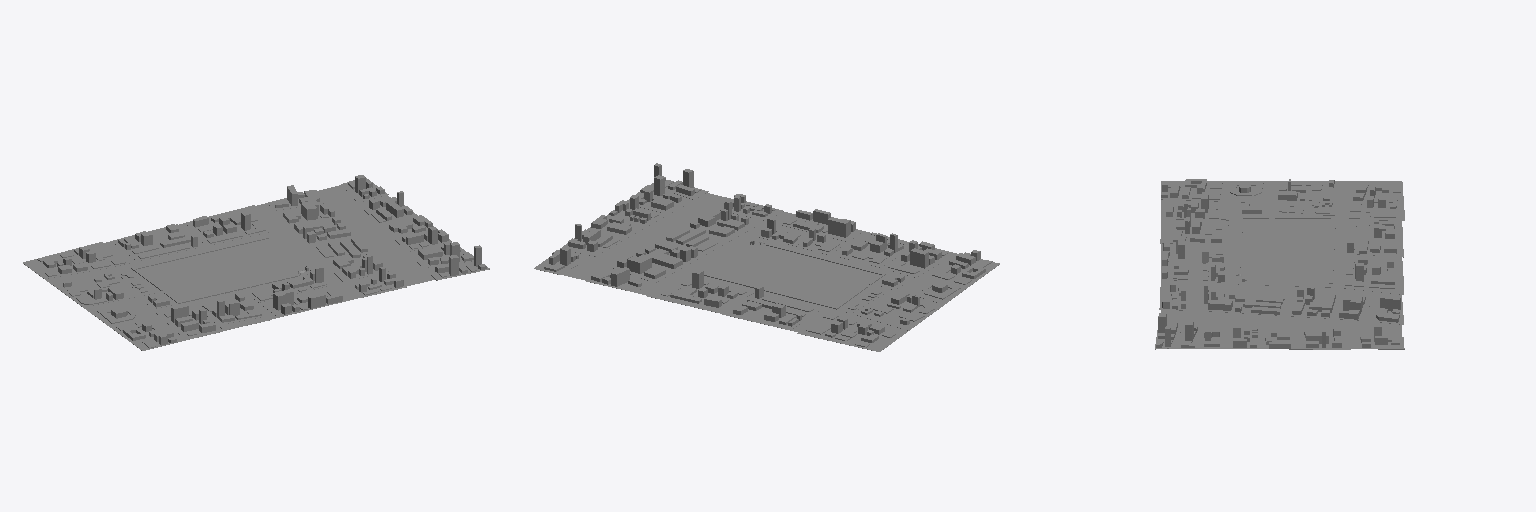
The model's file is layout.obj.
The picture shows the model from 3 angles: view 1: azimuth 30°, elevation 25°; view 2: azimuth 150°, elevation 25°; view 3: azimuth 270°, elevation 25°; orthographic projection.
Parts seen in each view (by area): view 1: layout1; view 2: layout1; view 3: layout1.
Boxes of the visible parts, box(x1,y1,x2,y2) form: layout1: box(23, 175, 489, 350); layout1: box(534, 163, 999, 351); layout1: box(1155, 179, 1404, 349).
Size of the model in its own units: 4735 by 249 by 2969.